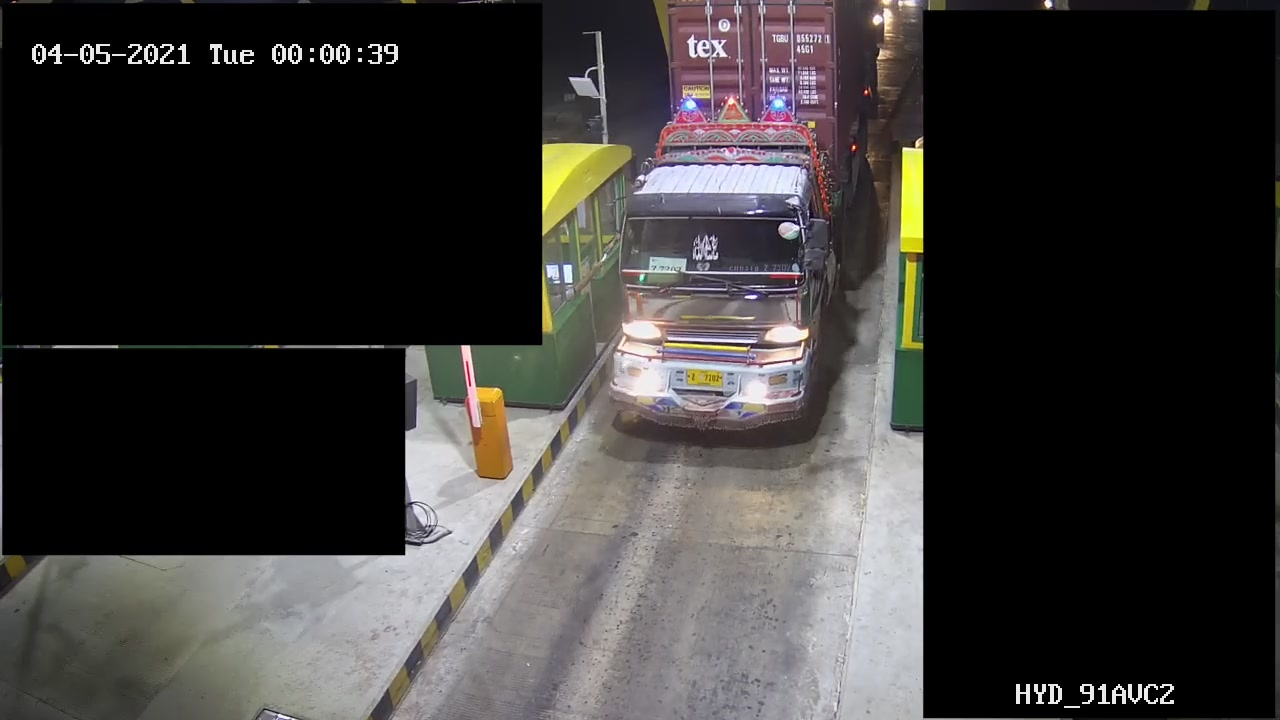F6: (604, 1, 869, 454)
